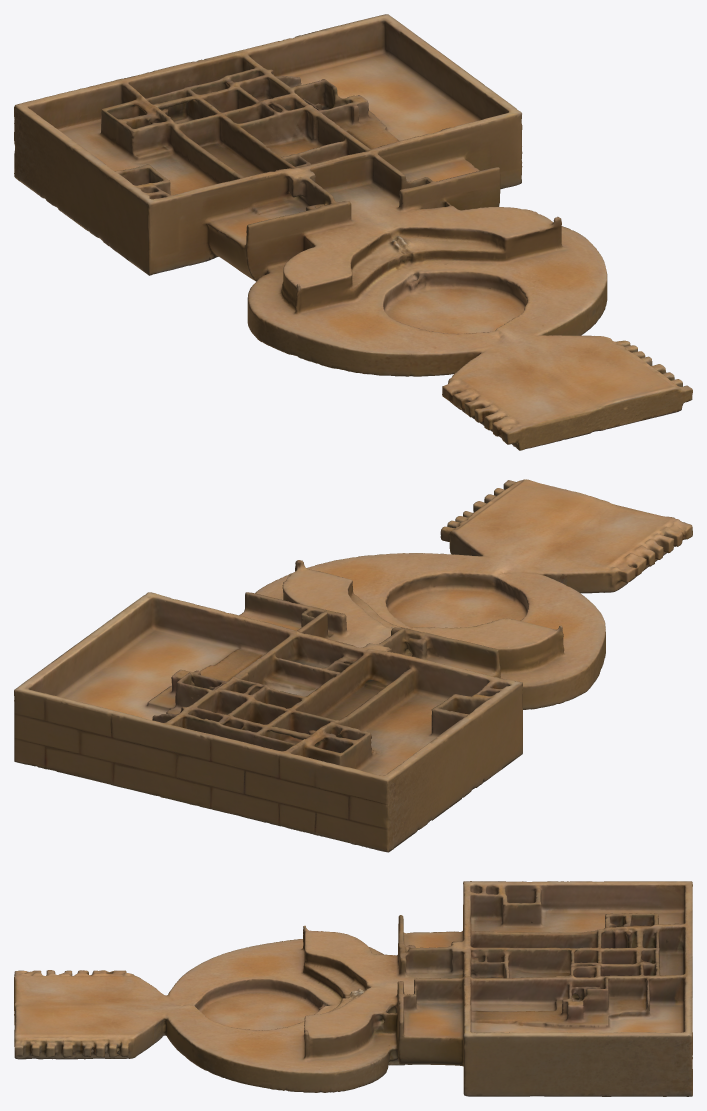
File: AnfiteatroCaral.glb
3 views of the same model, one above another, from view 1: azimuth 30°, elevation 25°; view 2: azimuth 150°, elevation 25°; view 3: azimuth 270°, elevation 25° (orthographic). The views are drawn at different scales.
Parts seen in each view (by area): view 1: Mesh_0; view 2: Mesh_0; view 3: Mesh_0.
Boxes of the visible parts, left/top/right/bottom form: Mesh_0: left=14, top=14, right=692, bottom=450; Mesh_0: left=14, top=479, right=692, bottom=852; Mesh_0: left=14, top=881, right=692, bottom=1096.
Bounding box in the file's own units: 1.08 × 0.2545 × 2.
Materials: 1 (1 with a texture image).
